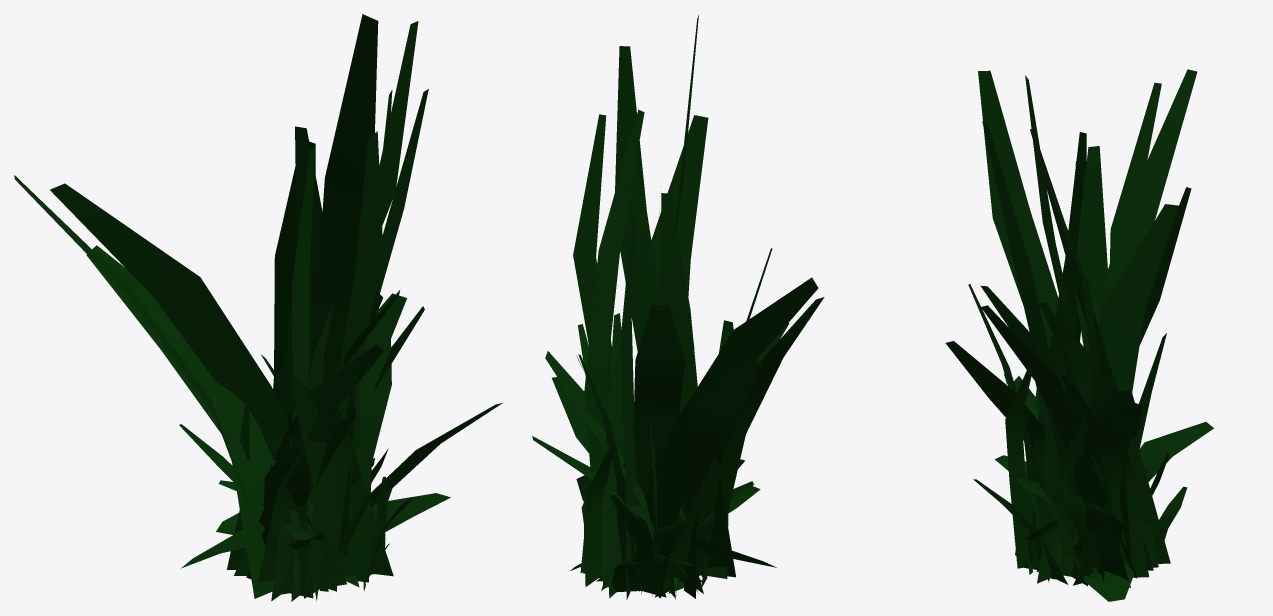
Rendered from Grass_06.fbx.
3 views of the same model, side by side, from view 1: azimuth 30°, elevation 25°; view 2: azimuth 150°, elevation 25°; view 3: azimuth 270°, elevation 25° (orthographic). The views are drawn at different scales.
Visible parts, largest first — view 1: grass_06_LOD0; view 2: grass_06_LOD0; view 3: grass_06_LOD0.
Boxes of the visible parts, x1,y1,x2,y2 form: grass_06_LOD0: (14,14,502,601); grass_06_LOD0: (532,15,824,599); grass_06_LOD0: (945,69,1213,601).
Size of what is drawn, in the model's own units: 159 by 227 by 134.
